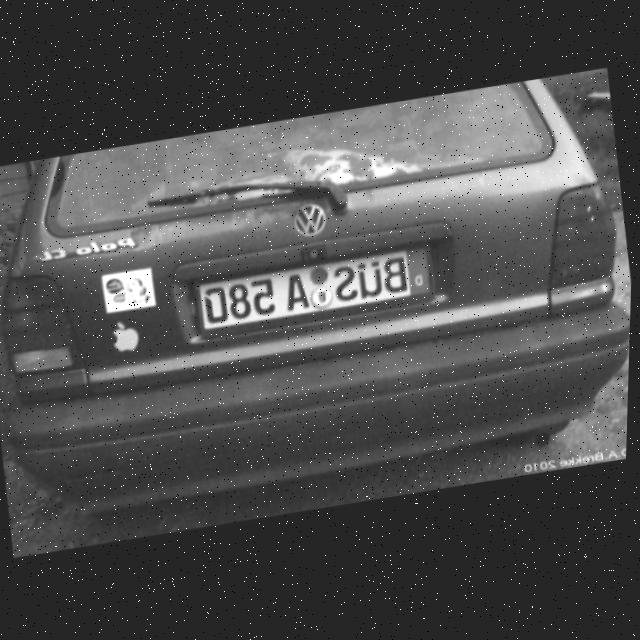license-plates: (197, 248, 432, 332)
